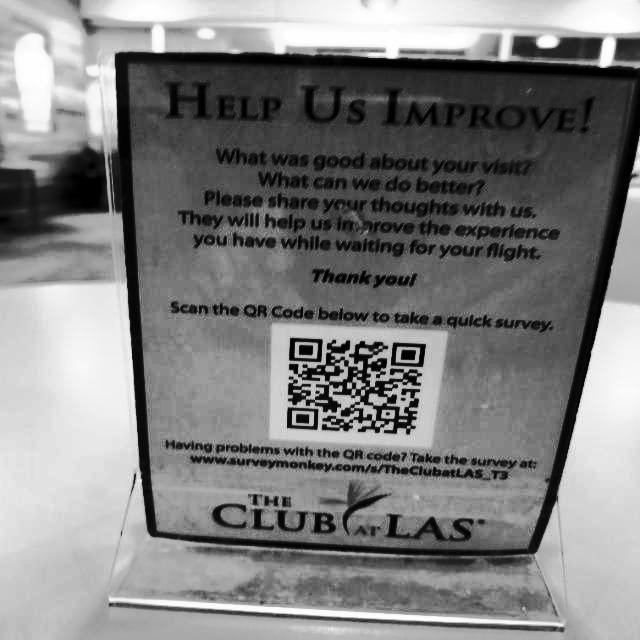qr_code: (274, 324, 443, 442)
